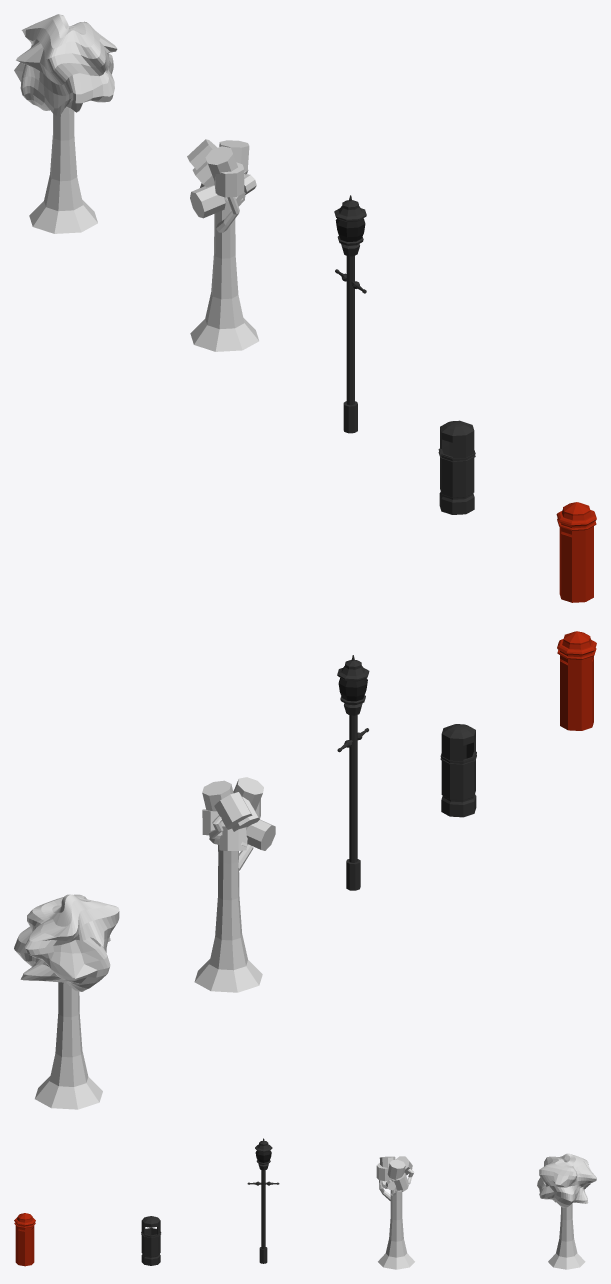
The model's file is Assets.fbx.
3 renders of one model, top to bottom at view 1: azimuth 30°, elevation 25°; view 2: azimuth 150°, elevation 25°; view 3: azimuth 270°, elevation 25°, orthographic. The views are drawn at different scales.
Parts seen in each view (by area): view 1: Cylinder.003, Cylinder.004, Cylinder.005, Cylinder, Cylinder.018; view 2: Cylinder.003, Cylinder.004, Cylinder.005, Cylinder, Cylinder.018; view 3: Cylinder.003, Cylinder.004, Cylinder.005, Cylinder, Cylinder.018.
Boxes of the visible parts, box(x1,y1,x2,y2) form: Cylinder.003: box(14, 14, 117, 233); Cylinder.004: box(187, 139, 258, 351); Cylinder.005: box(556, 502, 596, 602); Cylinder: box(334, 195, 366, 433); Cylinder.018: box(438, 420, 475, 514); Cylinder.003: box(14, 894, 119, 1109); Cylinder.004: box(194, 777, 275, 992); Cylinder.005: box(557, 631, 596, 730); Cylinder: box(337, 655, 369, 890); Cylinder.018: box(440, 724, 476, 817); Cylinder.003: box(537, 1153, 596, 1269); Cylinder.004: box(376, 1156, 414, 1269); Cylinder.005: box(14, 1213, 35, 1266); Cylinder: box(247, 1138, 279, 1263); Cylinder.018: box(141, 1216, 161, 1265).
Size of the model in its own units: 147 by 351 by 1496.
